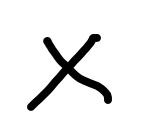mult: (28, 34, 113, 111)
